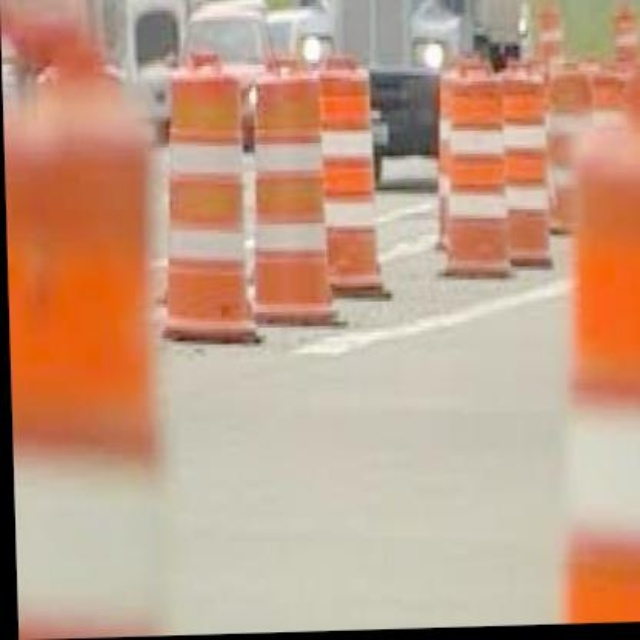obstacle: (241, 68, 339, 329), (156, 63, 246, 336), (434, 64, 516, 275)
